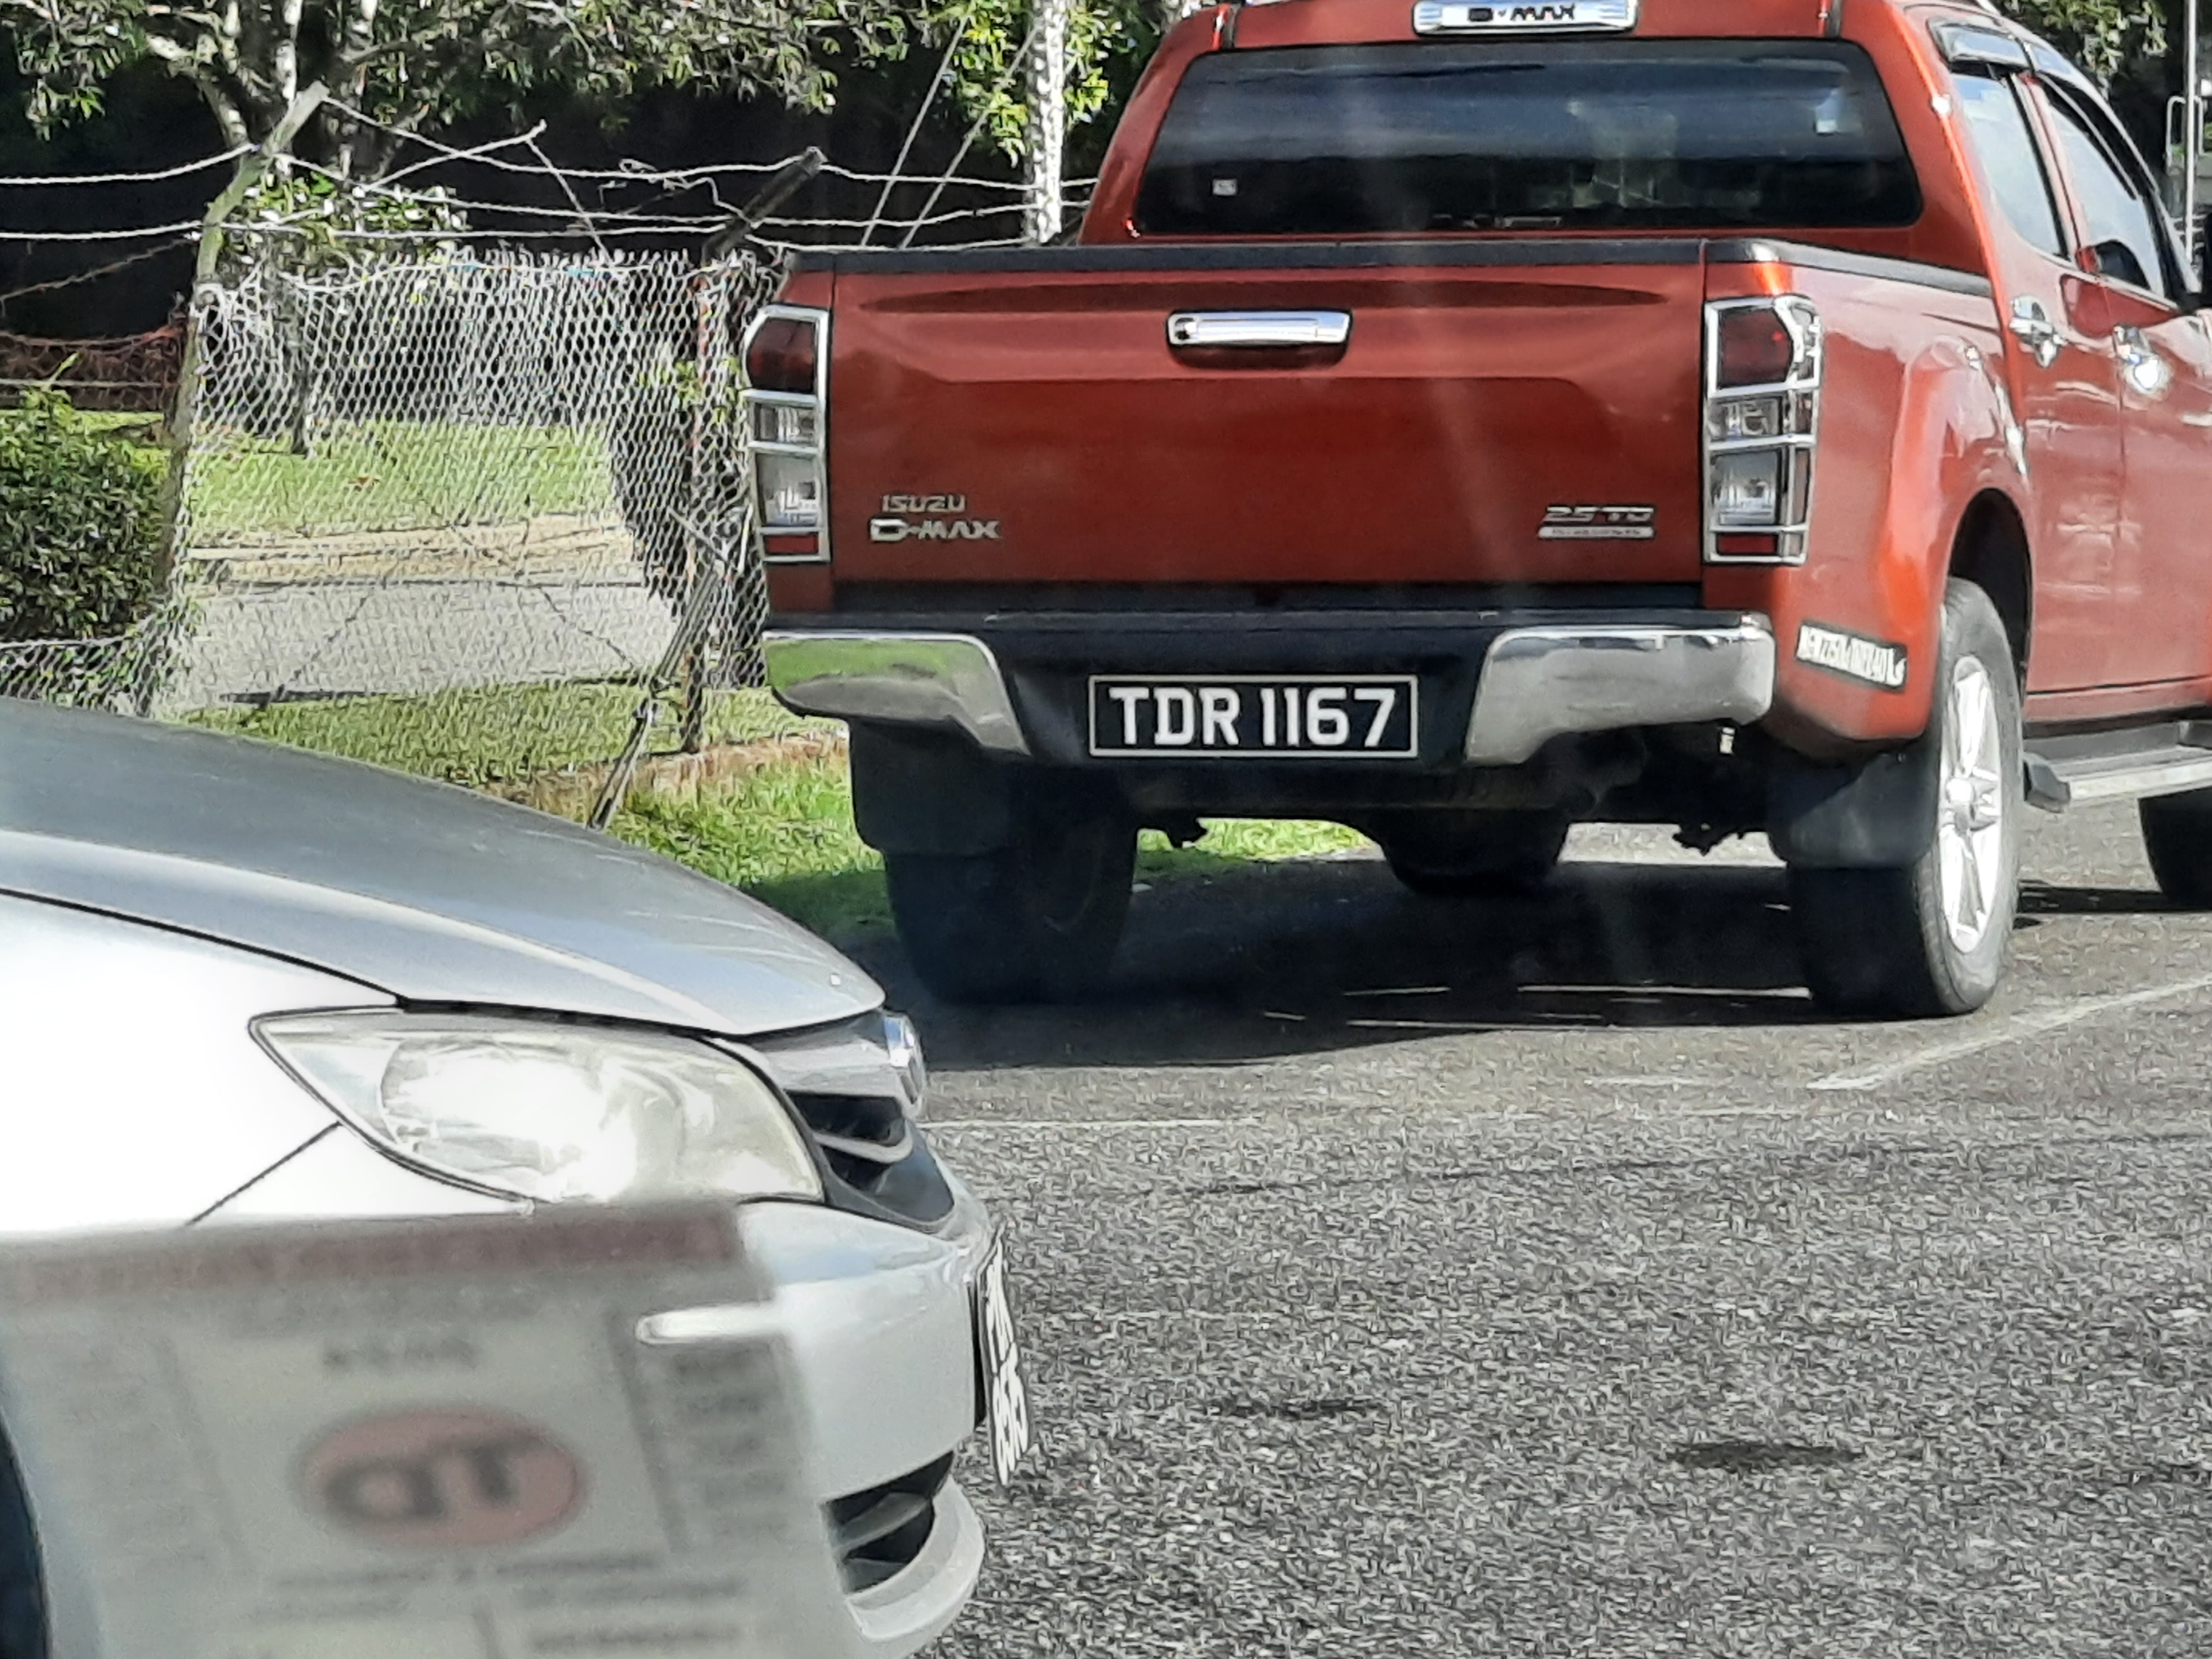License-Plate: (1089, 674, 1418, 758)
